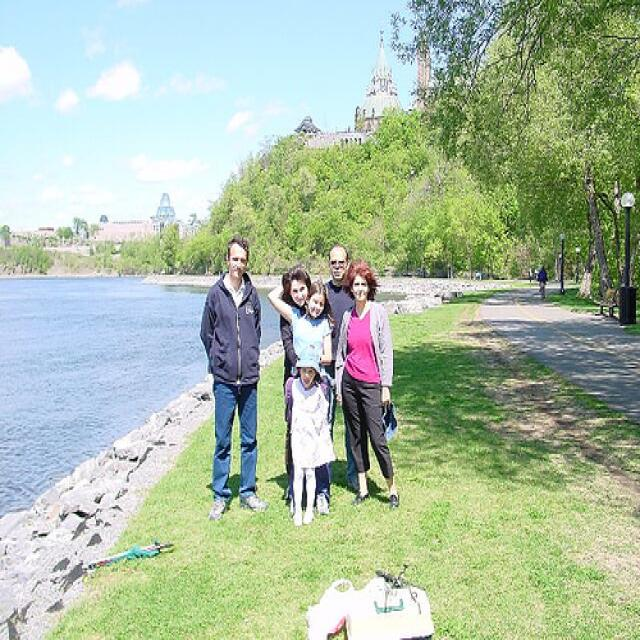person: (198, 235, 270, 521), (342, 265, 401, 508), (283, 268, 335, 505), (324, 244, 365, 493), (288, 348, 338, 527), (268, 278, 334, 378), (540, 262, 550, 296)
